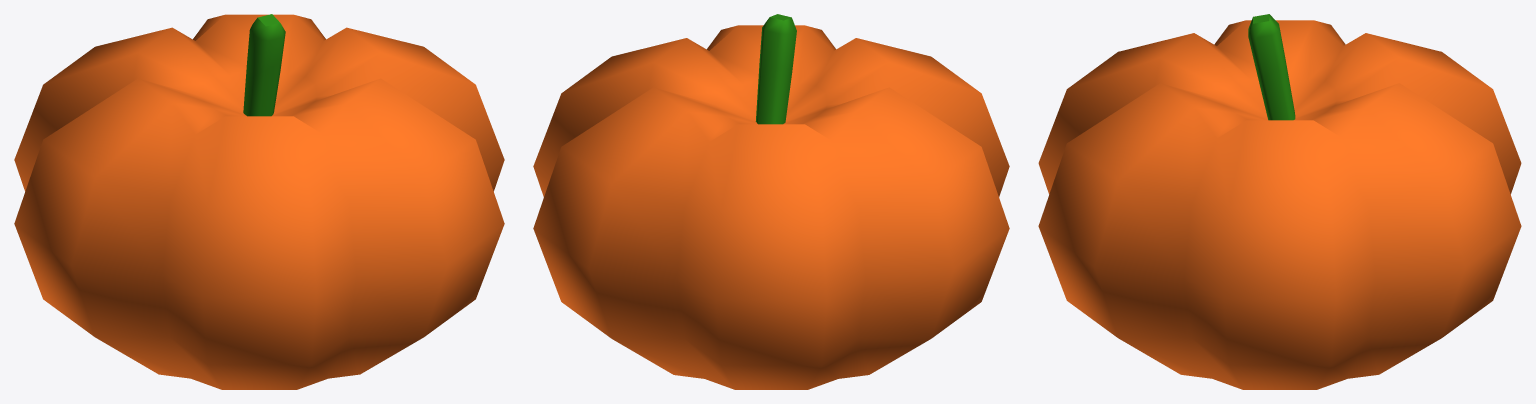
The model's file is Pumpkin_Item.fbx.
3 views of the same model, side by side, from view 1: azimuth 30°, elevation 25°; view 2: azimuth 150°, elevation 25°; view 3: azimuth 270°, elevation 25° (orthographic). The views are drawn at different scales.
Parts seen in each view (by area): view 1: Pumpkin, Stem (1); view 2: Pumpkin, Stem (1); view 3: Pumpkin, Stem (1).
Boxes of the visible parts, <box> form: Pumpkin: <box>14,14,504,389</box>; Stem (1): <box>243,14,285,116</box>; Pumpkin: <box>533,25,1009,389</box>; Stem (1): <box>755,14,796,124</box>; Pumpkin: <box>1038,20,1521,389</box>; Stem (1): <box>1248,14,1295,120</box>.
Bounding box in the file's own units: 1.24 × 0.9372 × 1.21.
